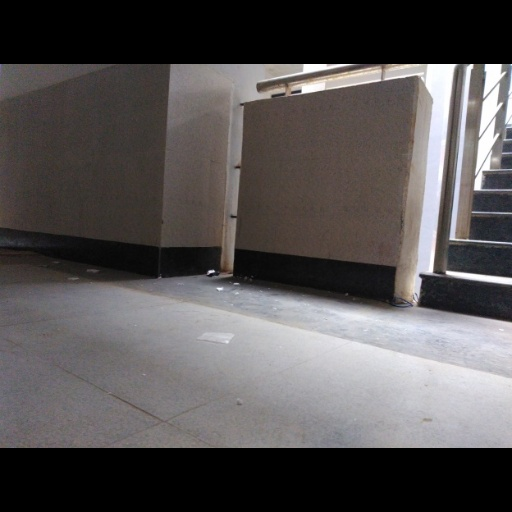Stairs: (420, 128, 512, 320)
